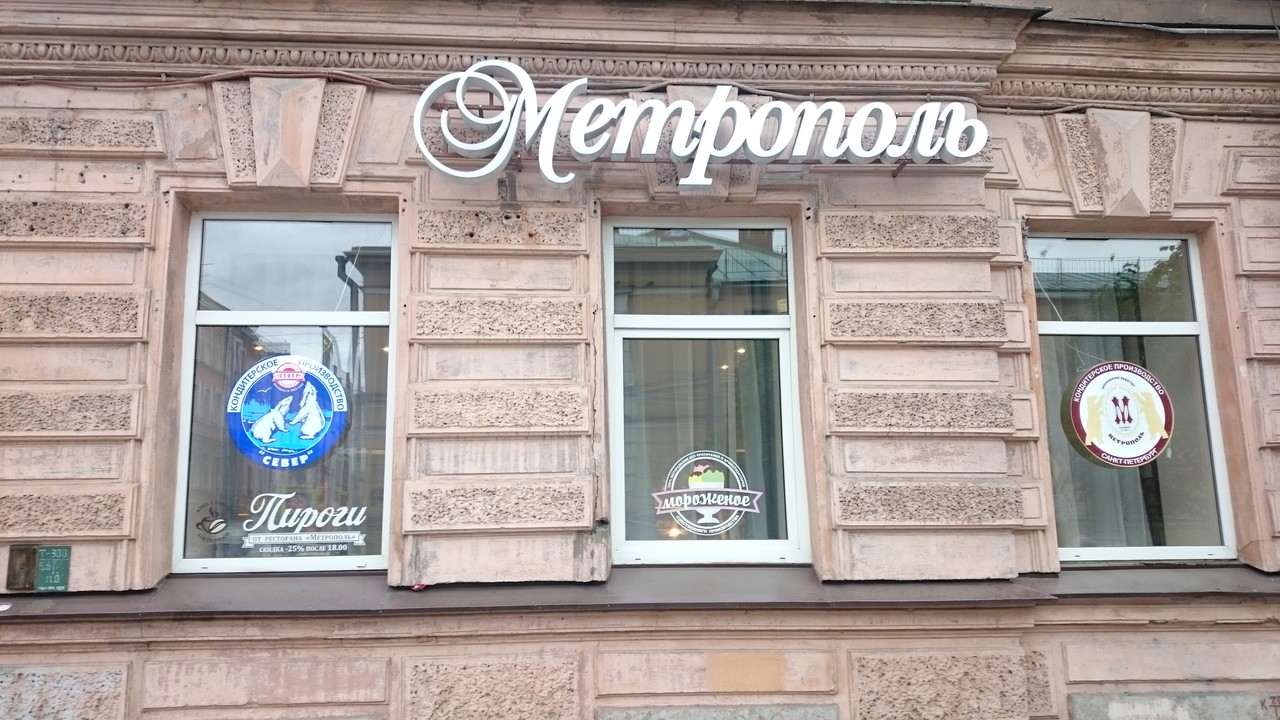signboard: (406, 53, 990, 186)
window: (166, 211, 395, 576), (1024, 230, 1233, 561), (612, 217, 796, 562)
